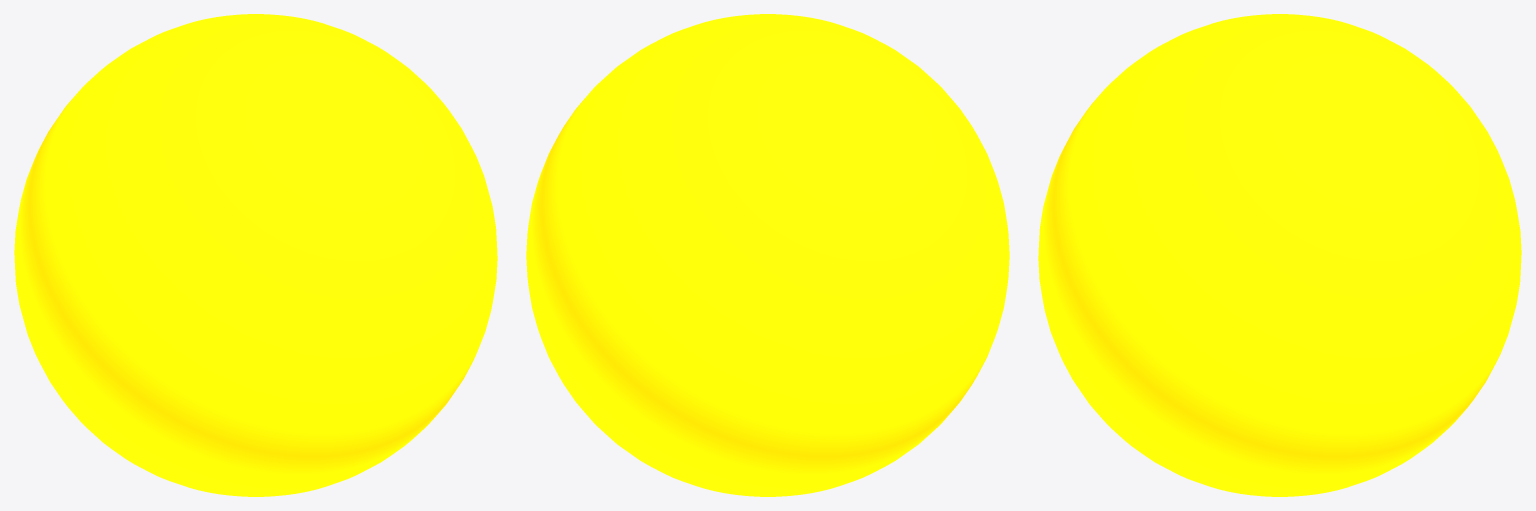
File: pot3.fbx
3 renders of one model, left to right at view 1: azimuth 30°, elevation 25°; view 2: azimuth 150°, elevation 25°; view 3: azimuth 270°, elevation 25°, orthographic.
Visible parts, largest first — view 1: Glow; view 2: Glow; view 3: Glow.
Part boxes in pixels (x1,y1,x2,y2): Glow: (14,14,497,496); Glow: (526,14,1009,496); Glow: (1038,14,1521,496).
Size of what is drawn, in the model's own units: 5.62 by 5.62 by 5.62.
